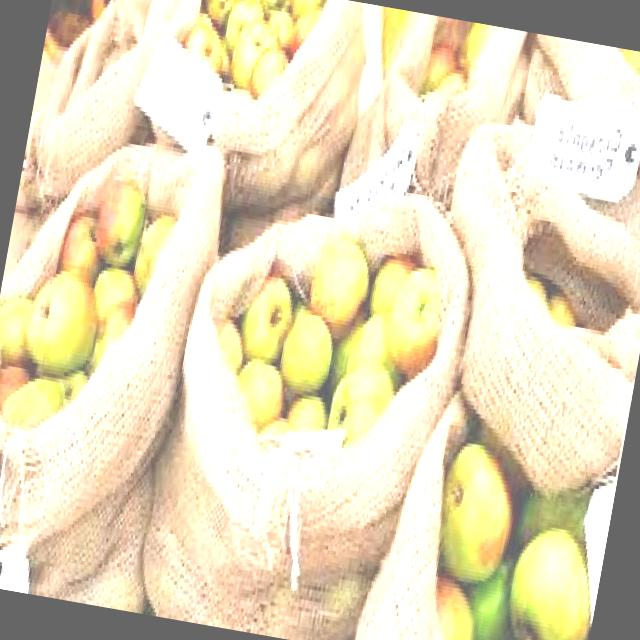Apple: (428, 436, 524, 588), (498, 518, 607, 640), (21, 262, 108, 380), (380, 260, 450, 378), (303, 235, 377, 339), (324, 354, 399, 455), (275, 303, 341, 399), (238, 269, 302, 364), (90, 170, 152, 268), (227, 16, 280, 96), (56, 210, 108, 284), (177, 20, 233, 79)
